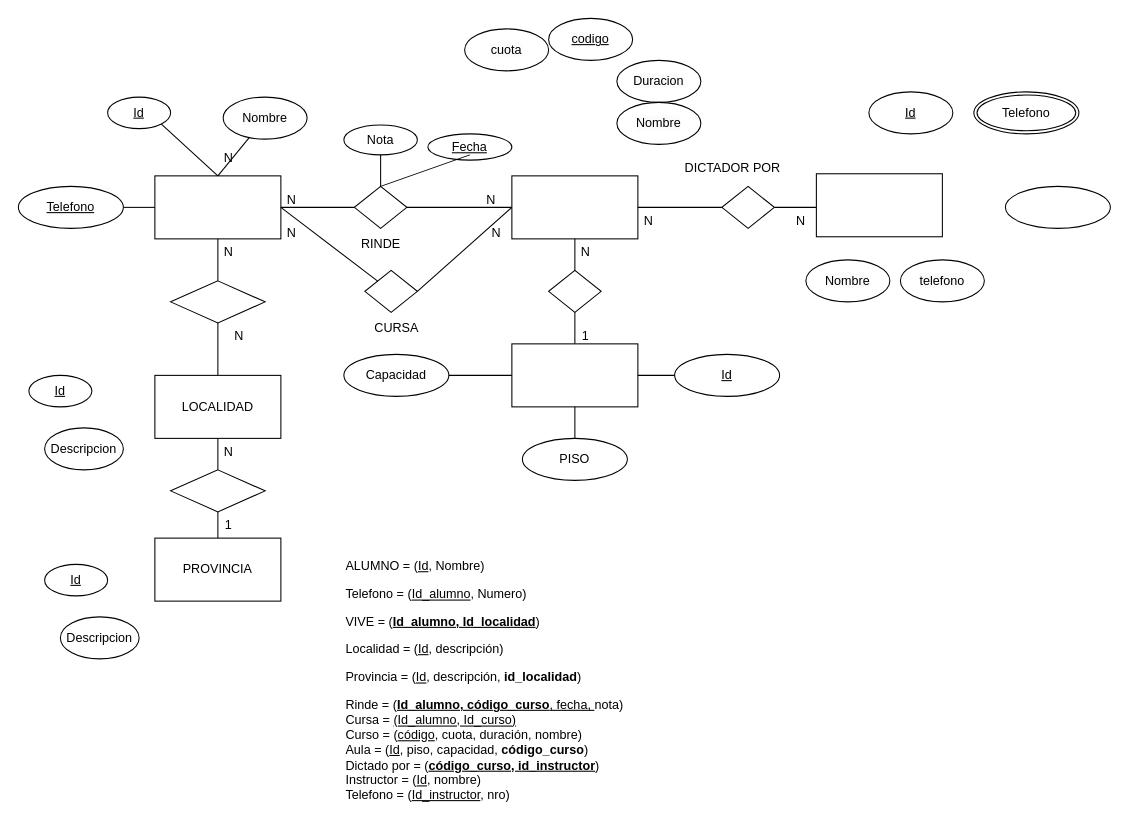
This 1129x829 diagram has some shape labels left out. Here are the shapes that lost their labels. From the top down, the centre of each, then its label:
the point at 217,207: ALUMNO
the point at 574,207: CURSO
the point at 878,205: INSTRUCTOR
the point at 1057,206: Correo electronico
the point at 217,301: VIVE EN
the point at 574,375: AULA
the point at 217,490: PERTENECE
